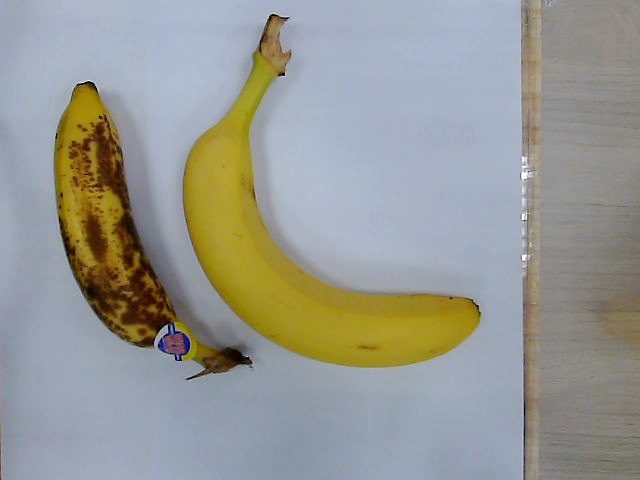fresh_banana: (184, 14, 480, 369)
rotten_banana: (54, 80, 252, 379)
